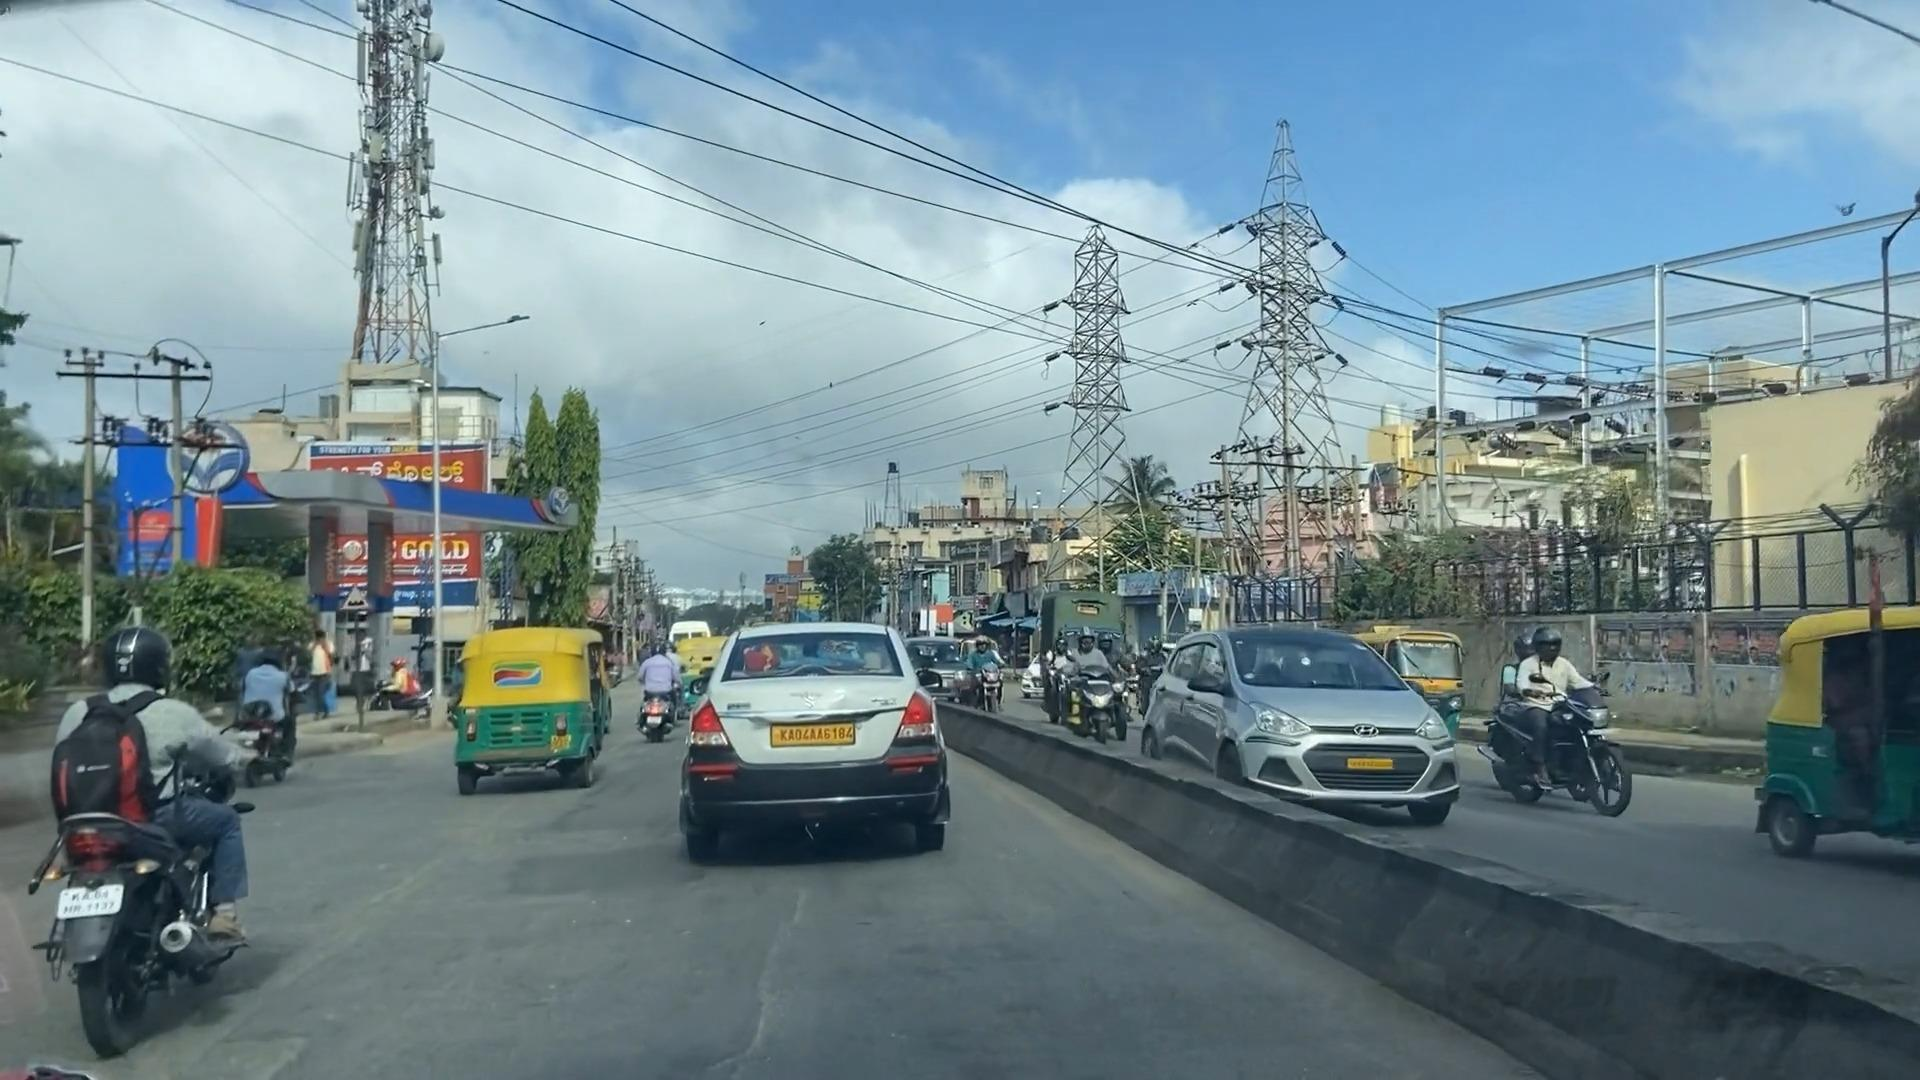LMV: (54, 645, 249, 1014), (675, 624, 948, 856), (452, 638, 609, 783)
UnsurfacedRoad: (251, 877, 825, 1080)
